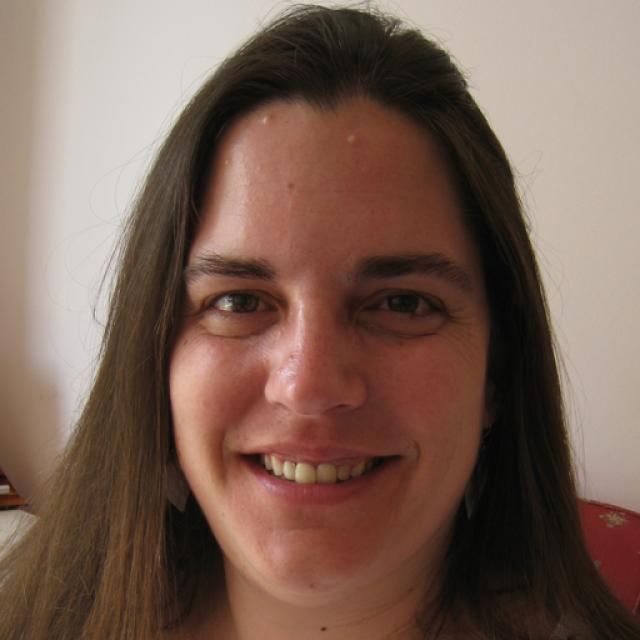Acne: (337, 132, 371, 157), (258, 105, 282, 131), (216, 149, 238, 175)
Dark Circle: (363, 313, 447, 338), (198, 314, 281, 335)
